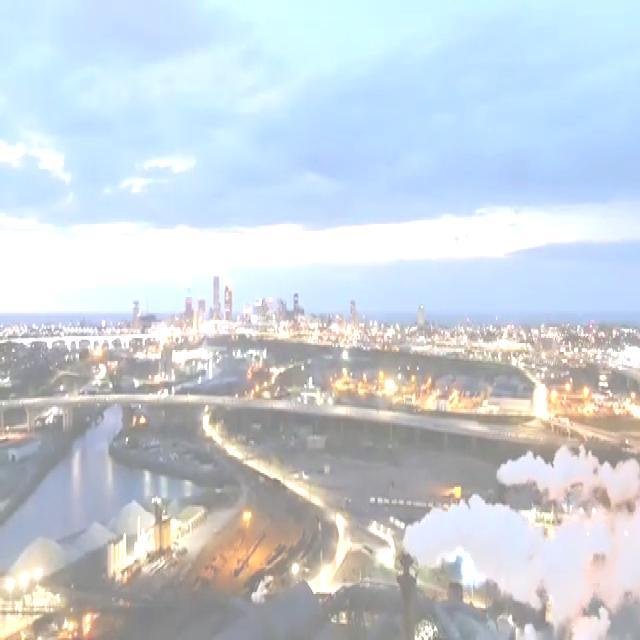smoke: (405, 500, 551, 613), (496, 441, 637, 507)
